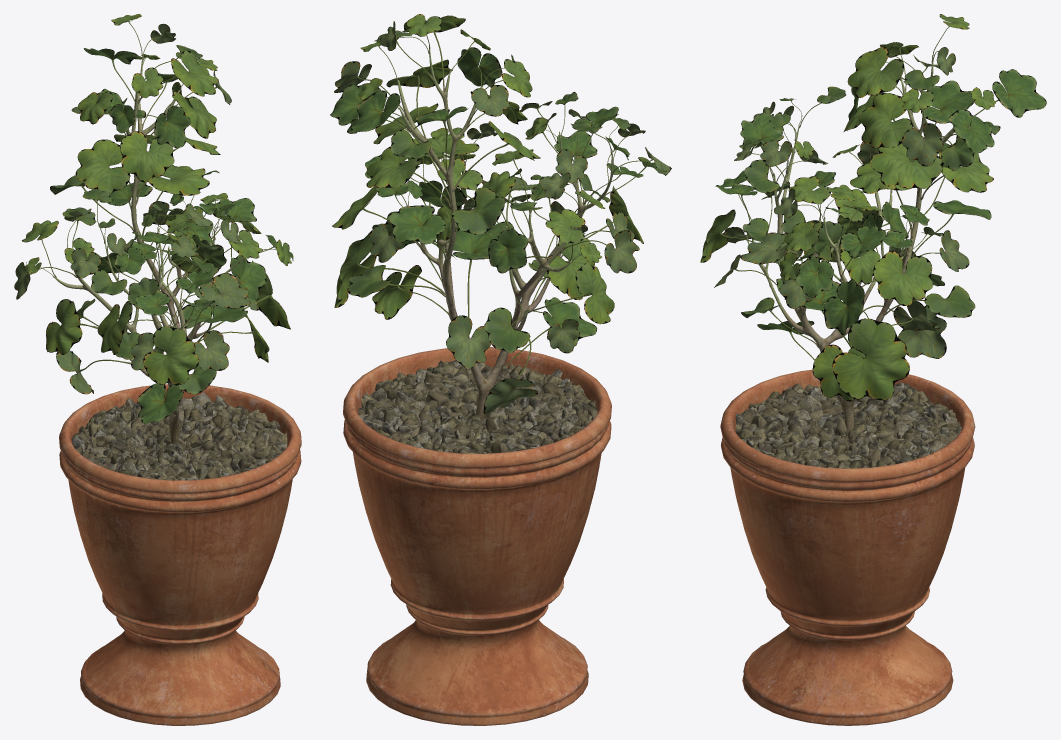
The model's file is potted_plant_01.glb.
3 views of the same model, side by side, from view 1: azimuth 30°, elevation 25°; view 2: azimuth 150°, elevation 25°; view 3: azimuth 270°, elevation 25° (orthographic). The views are drawn at different scales.
Visible parts, largest first — view 1: potted_plant_01_m2, potted_plant_01_m0, potted_plant_01_m1, potted_plant_01_m3; view 2: potted_plant_01_m2, potted_plant_01_m0, potted_plant_01_m1, potted_plant_01_m3; view 3: potted_plant_01_m2, potted_plant_01_m0, potted_plant_01_m1, potted_plant_01_m3.
Boxes of the visible parts, x1=… form: potted_plant_01_m2: x1=59, y1=384, x2=301, y2=725; potted_plant_01_m0: x1=14, y1=14, x2=293, y2=423; potted_plant_01_m1: x1=71, y1=392, x2=287, y2=480; potted_plant_01_m3: x1=53, y1=54, x2=244, y2=443; potted_plant_01_m2: x1=343, y1=347, x2=611, y2=725; potted_plant_01_m0: x1=330, y1=14, x2=671, y2=414; potted_plant_01_m1: x1=358, y1=360, x2=597, y2=453; potted_plant_01_m3: x1=397, y1=49, x2=612, y2=420; potted_plant_01_m2: x1=720, y1=369, x2=975, y2=725; potted_plant_01_m0: x1=700, y1=14, x2=1046, y2=401; potted_plant_01_m1: x1=735, y1=382, x2=961, y2=468; potted_plant_01_m3: x1=751, y1=55, x2=966, y2=431.
Size of the model in its own units: 0.5198 by 1.18 by 0.5607.
Materials: 2 (2 with a texture image).
